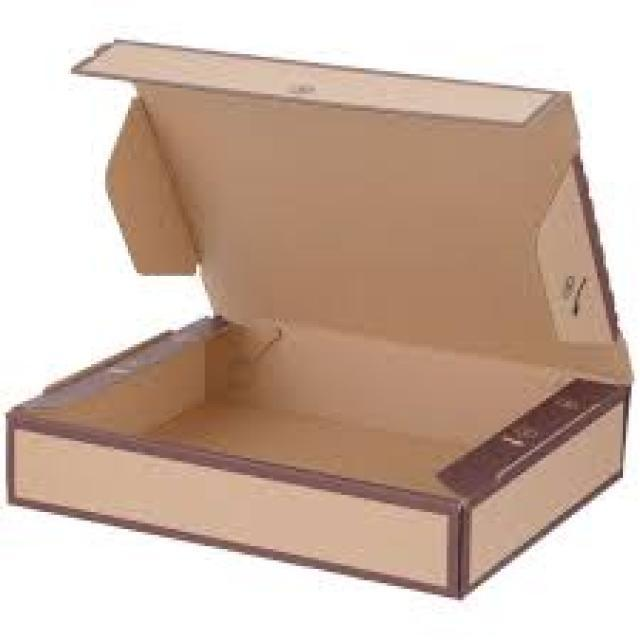Cardboard: (8, 41, 631, 602)
